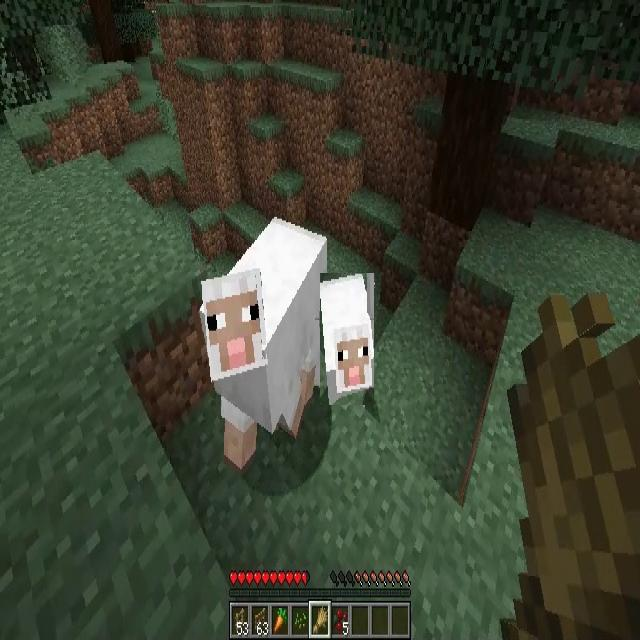sheep: (200, 217, 328, 468), (320, 273, 374, 405)
